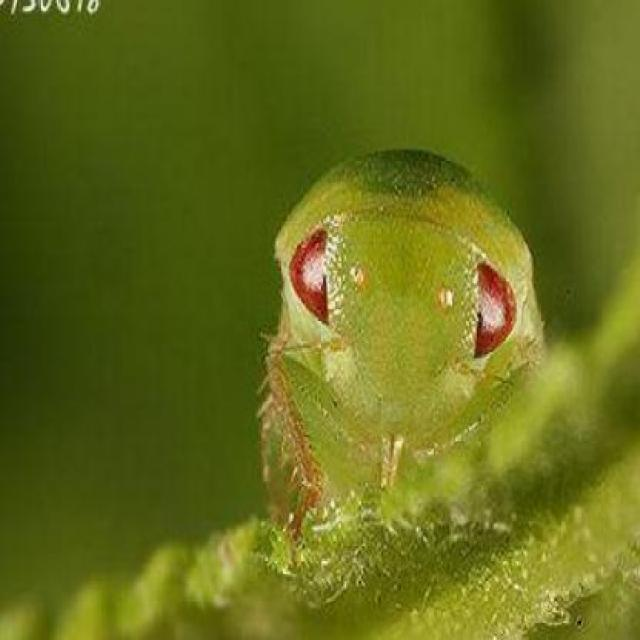green-leafhopper: (265, 141, 553, 519)
